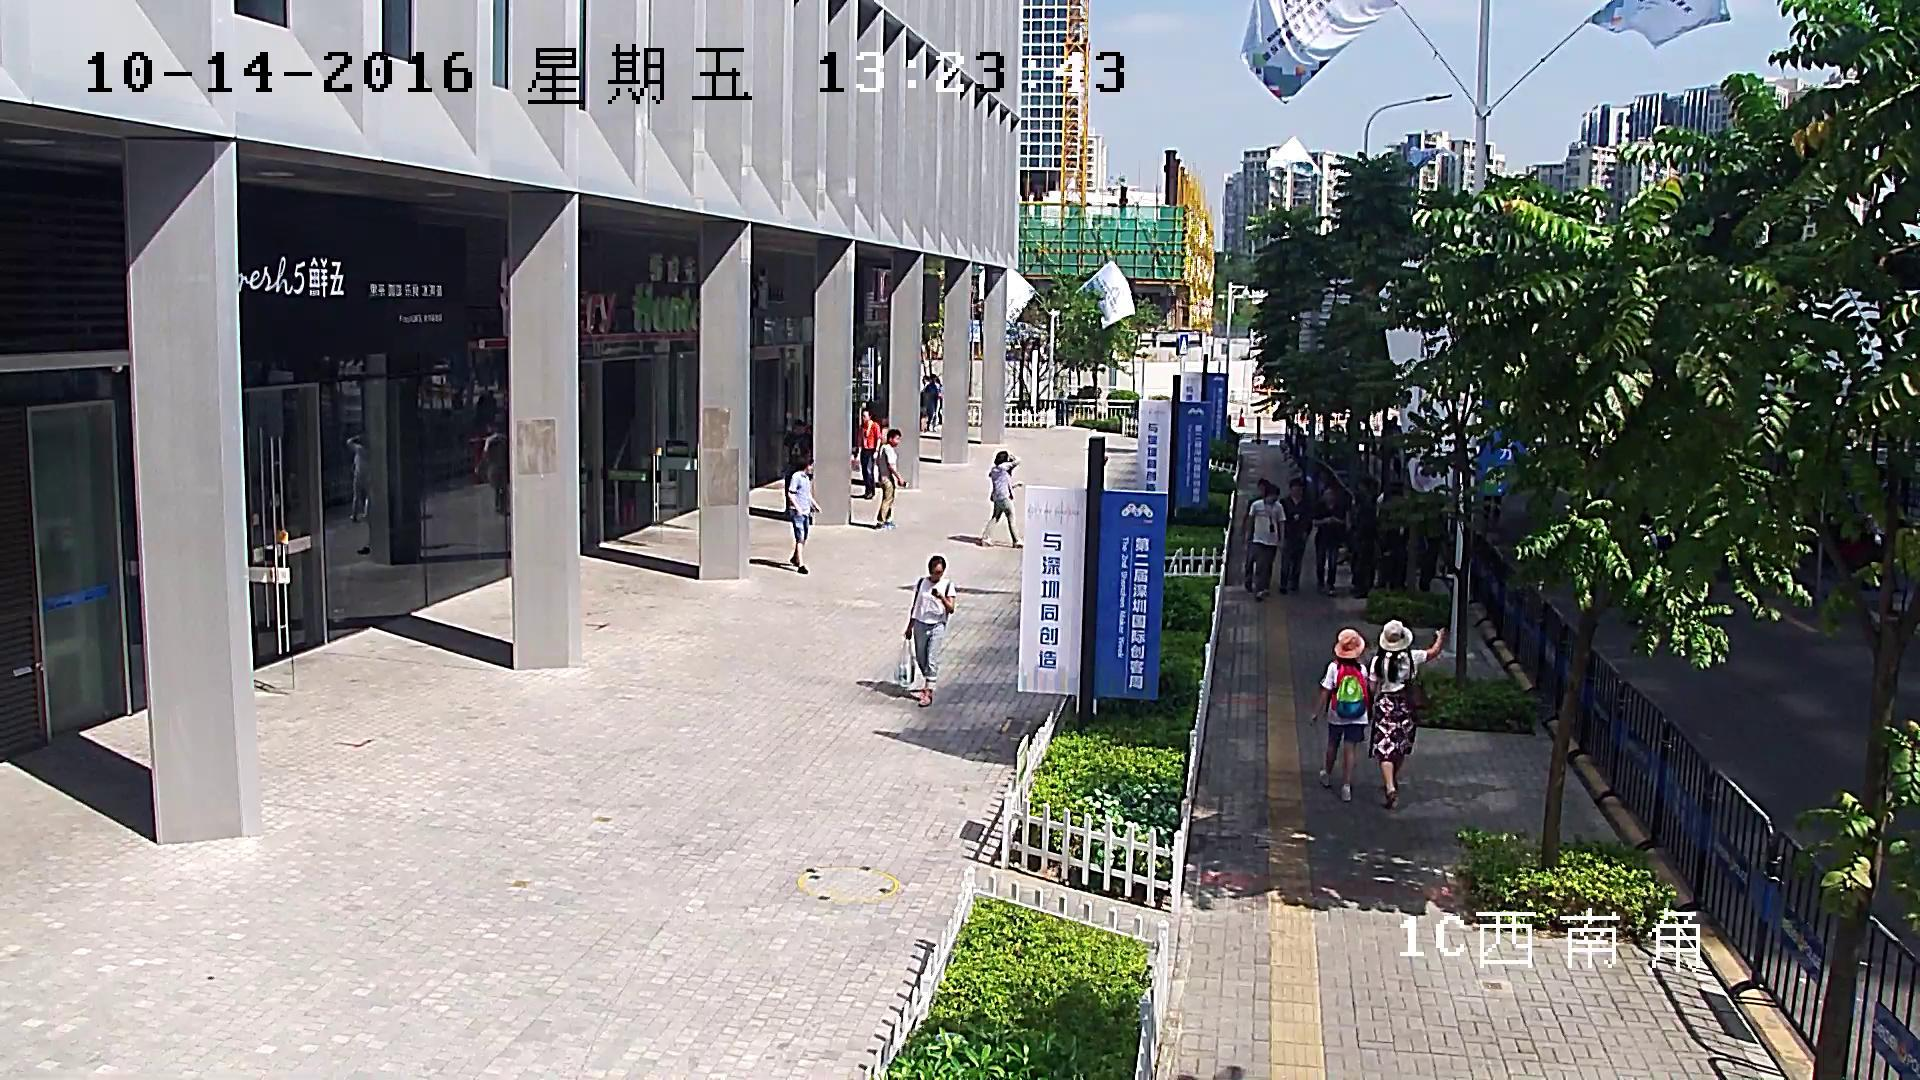person: (1368, 619, 1445, 809), (1313, 628, 1369, 802), (894, 555, 955, 707), (1240, 484, 1285, 601), (975, 451, 1024, 548), (1277, 478, 1313, 595), (1311, 484, 1347, 597), (787, 456, 822, 574), (1376, 482, 1410, 592), (1240, 477, 1270, 592), (1419, 483, 1448, 591), (1350, 477, 1376, 598), (876, 429, 906, 527), (473, 421, 506, 511), (783, 419, 810, 520), (853, 407, 881, 499), (347, 434, 367, 523), (1388, 415, 1402, 481), (924, 373, 937, 432), (1483, 496, 1502, 528)
